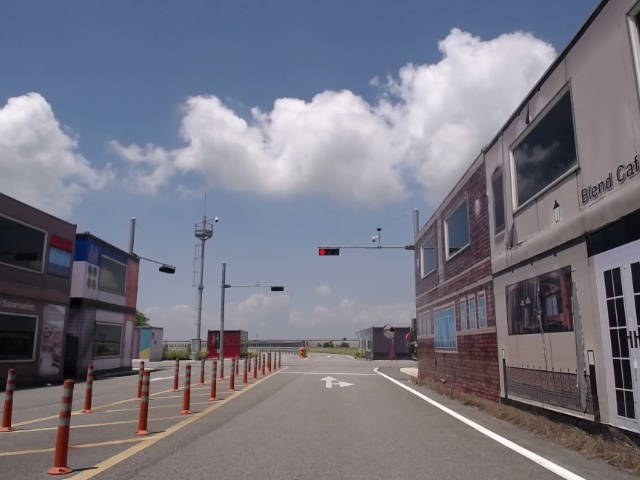red_3: (319, 248, 340, 255)
